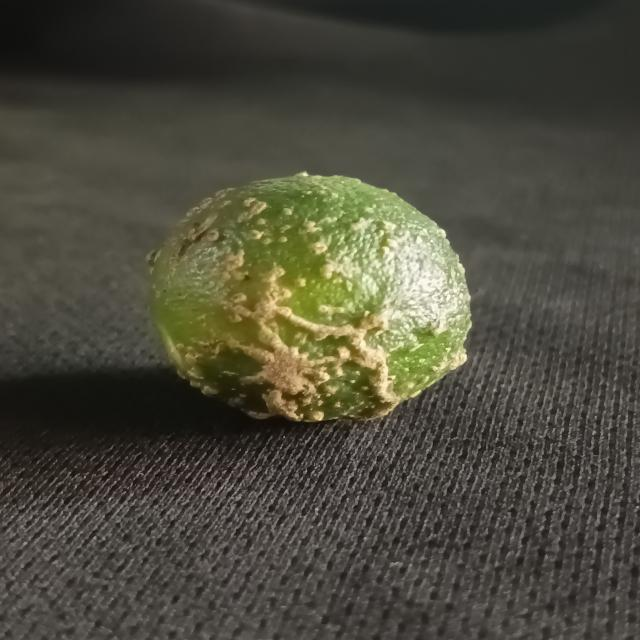scab: (140, 168, 476, 425)
